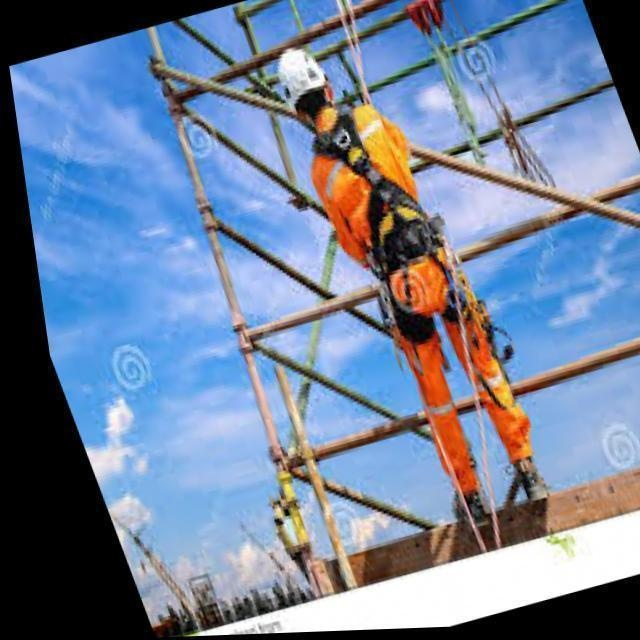Arnes_seguridad: (275, 45, 550, 551)
